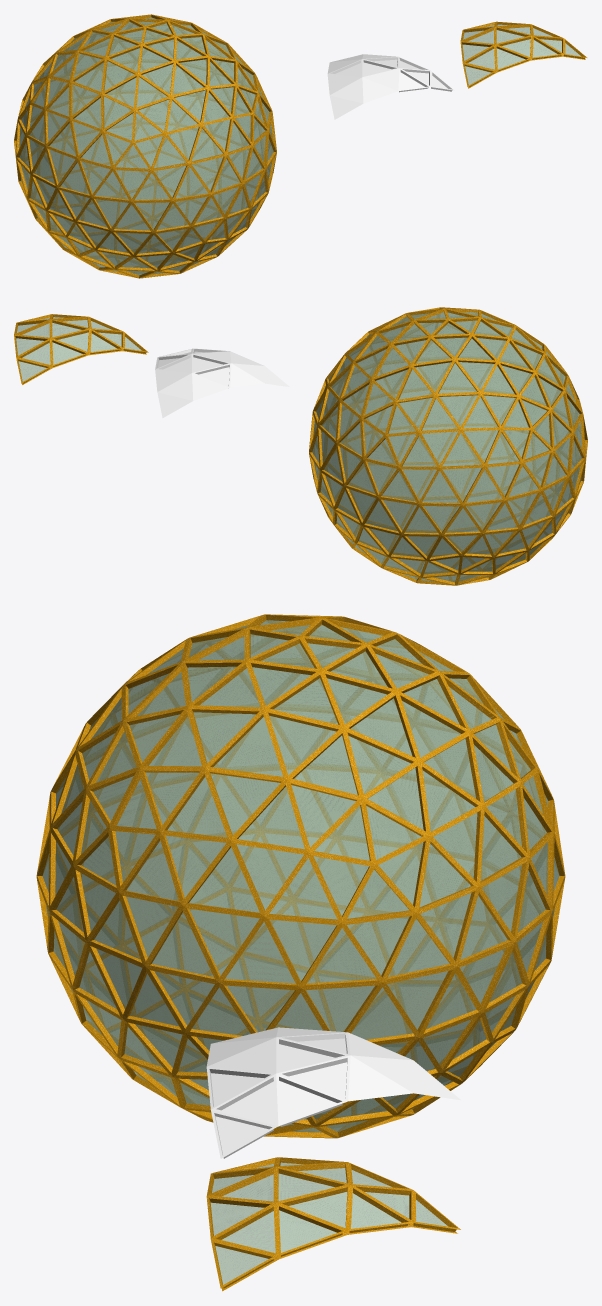
File: GeodesicFrame.dae
3 renders of one model, top to bottom at view 1: azimuth 30°, elevation 25°; view 2: azimuth 150°, elevation 25°; view 3: azimuth 270°, elevation 25°, orthographic. The views are drawn at different scales.
Visible parts, largest first — view 1: _4V_icosa_face12 (×11), _4V_icosa_face (×10), _4V_icosa_face_1; view 2: _4V_icosa_face12 (×11), _4V_icosa_face (×10), _4V_icosa_face_1; view 3: _4V_icosa_face12 (×11), _4V_icosa_face (×10), _4V_icosa_face_1.
Part boxes in pixels (box(x1,y1,x2,y2)): _4V_icosa_face12 (×11): box(14, 14, 587, 256); _4V_icosa_face (×10): box(14, 38, 276, 278); _4V_icosa_face_1: box(327, 54, 454, 119); _4V_icosa_face12 (×11): box(14, 307, 581, 560); _4V_icosa_face (×10): box(309, 337, 587, 585); _4V_icosa_face_1: box(155, 348, 289, 417); _4V_icosa_face12 (×11): box(48, 614, 565, 1291); _4V_icosa_face (×10): box(36, 664, 553, 1138); _4V_icosa_face_1: box(206, 1027, 460, 1158).
Size of the model in its own units: 4.68 by 2 by 2.
